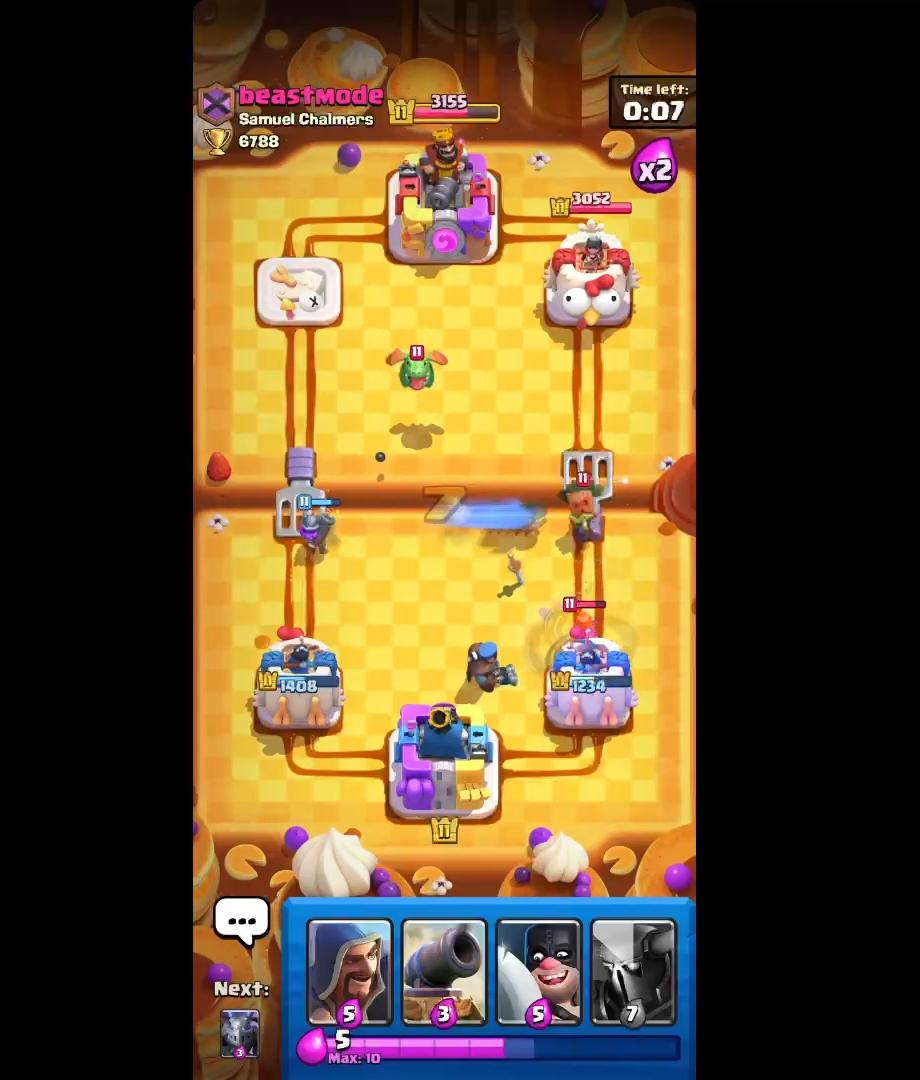Baby Dragon: (378, 338, 451, 397)
Dart Goblin: (554, 474, 605, 542)
Valkyrie: (556, 592, 613, 659)
